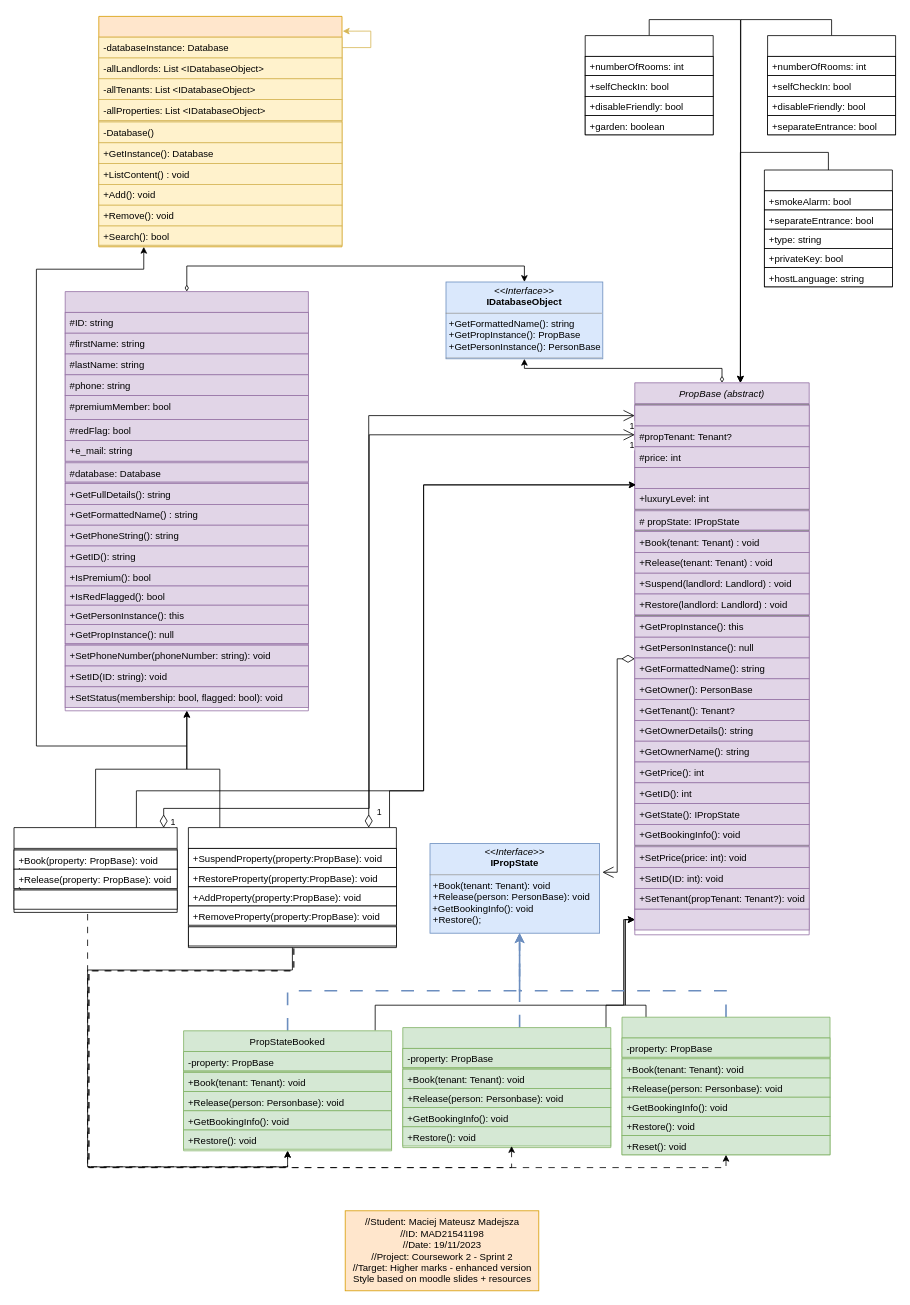
Image size: 910x1305. Some labels were removed from this diagram. The shapes that lost their labels are listed below. From the top down, each one's box as (x1, y1, x2, y2) in pixels, then its label:
(584, 35, 713, 135): House
(767, 35, 896, 135): Flat
(98, 16, 342, 247): Database (singleton)
(764, 169, 892, 287): Room
(634, 404, 809, 426): #owner: Landlord
(634, 467, 809, 488): #ID: int
(64, 291, 308, 711): PersonBase (abstract)
(13, 827, 177, 912): Tenant
(188, 827, 396, 948): Landlord
(13, 889, 177, 909): +GetBookings(): void )
(634, 908, 809, 930): +SetState(newState: IPropState): void
(188, 926, 396, 946): +GetProperties(): void
(402, 1027, 611, 1148): PropStateFree
(621, 1016, 830, 1155): PropStateSusbended
